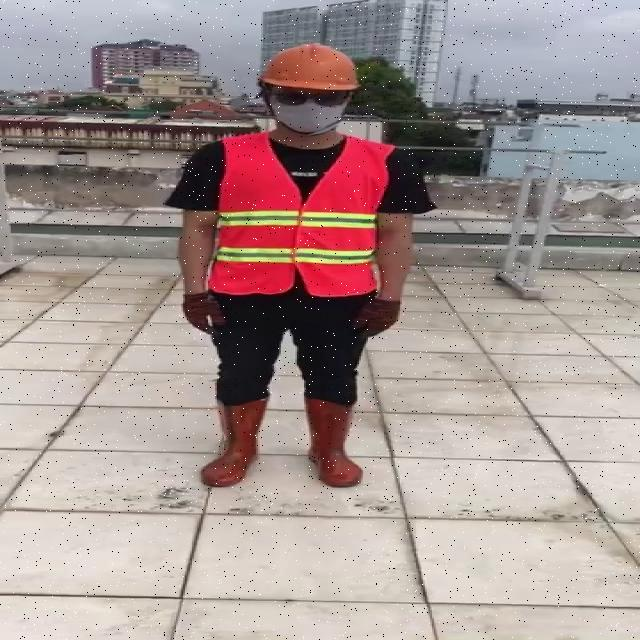Hard_hat: (255, 40, 366, 103)
Person: (155, 44, 435, 508)
Vest: (207, 132, 384, 297)
